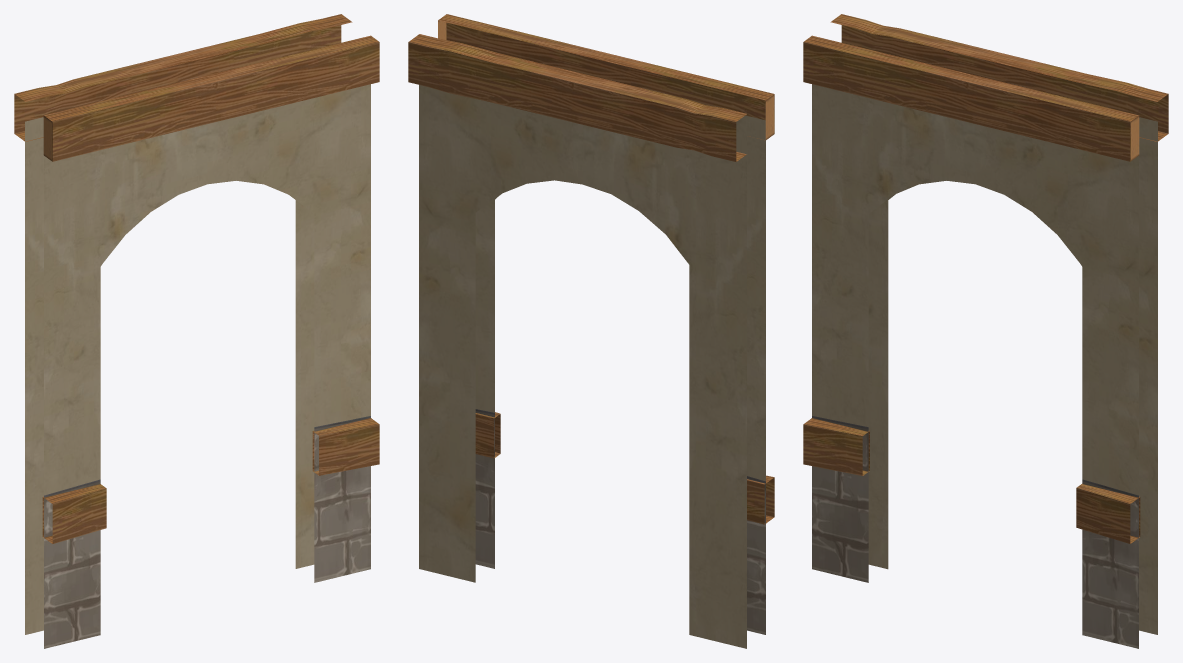
File: Wall_Plaster_Door_Round.gltf
The picture shows the model from 3 angles, left to right: view 1: azimuth 30°, elevation 25°; view 2: azimuth 150°, elevation 25°; view 3: azimuth 330°, elevation 25°; orthographic projection.
Visible parts, largest first — view 1: Wall_Plaster_Door_Round; view 2: Wall_Plaster_Door_Round; view 3: Wall_Plaster_Door_Round.
Part boxes in pixels (x1=…): Wall_Plaster_Door_Round: x1=14, y1=14, x2=379, y2=648; Wall_Plaster_Door_Round: x1=408, y1=14, x2=774, y2=648; Wall_Plaster_Door_Round: x1=803, y1=14, x2=1168, y2=648.
Bounding box in the file's own units: 2 × 3.12 × 0.4065.
Materials: 3 (3 with a texture image).
